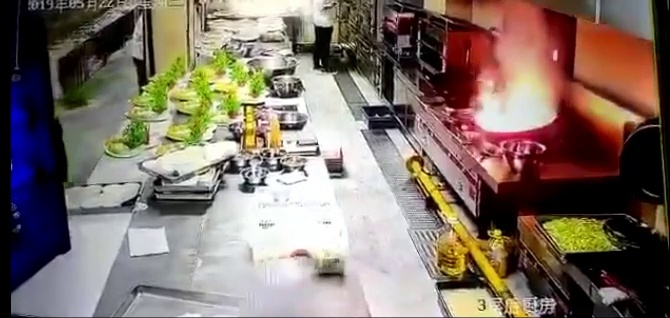fire: (468, 25, 560, 132)
